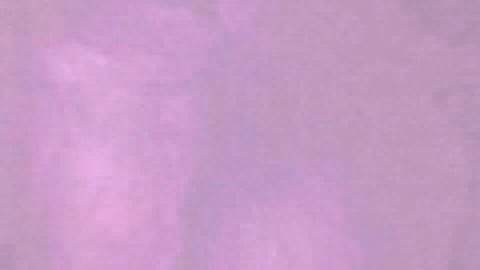tomato: (220, 127, 459, 269), (13, 115, 219, 270), (459, 133, 477, 268)
